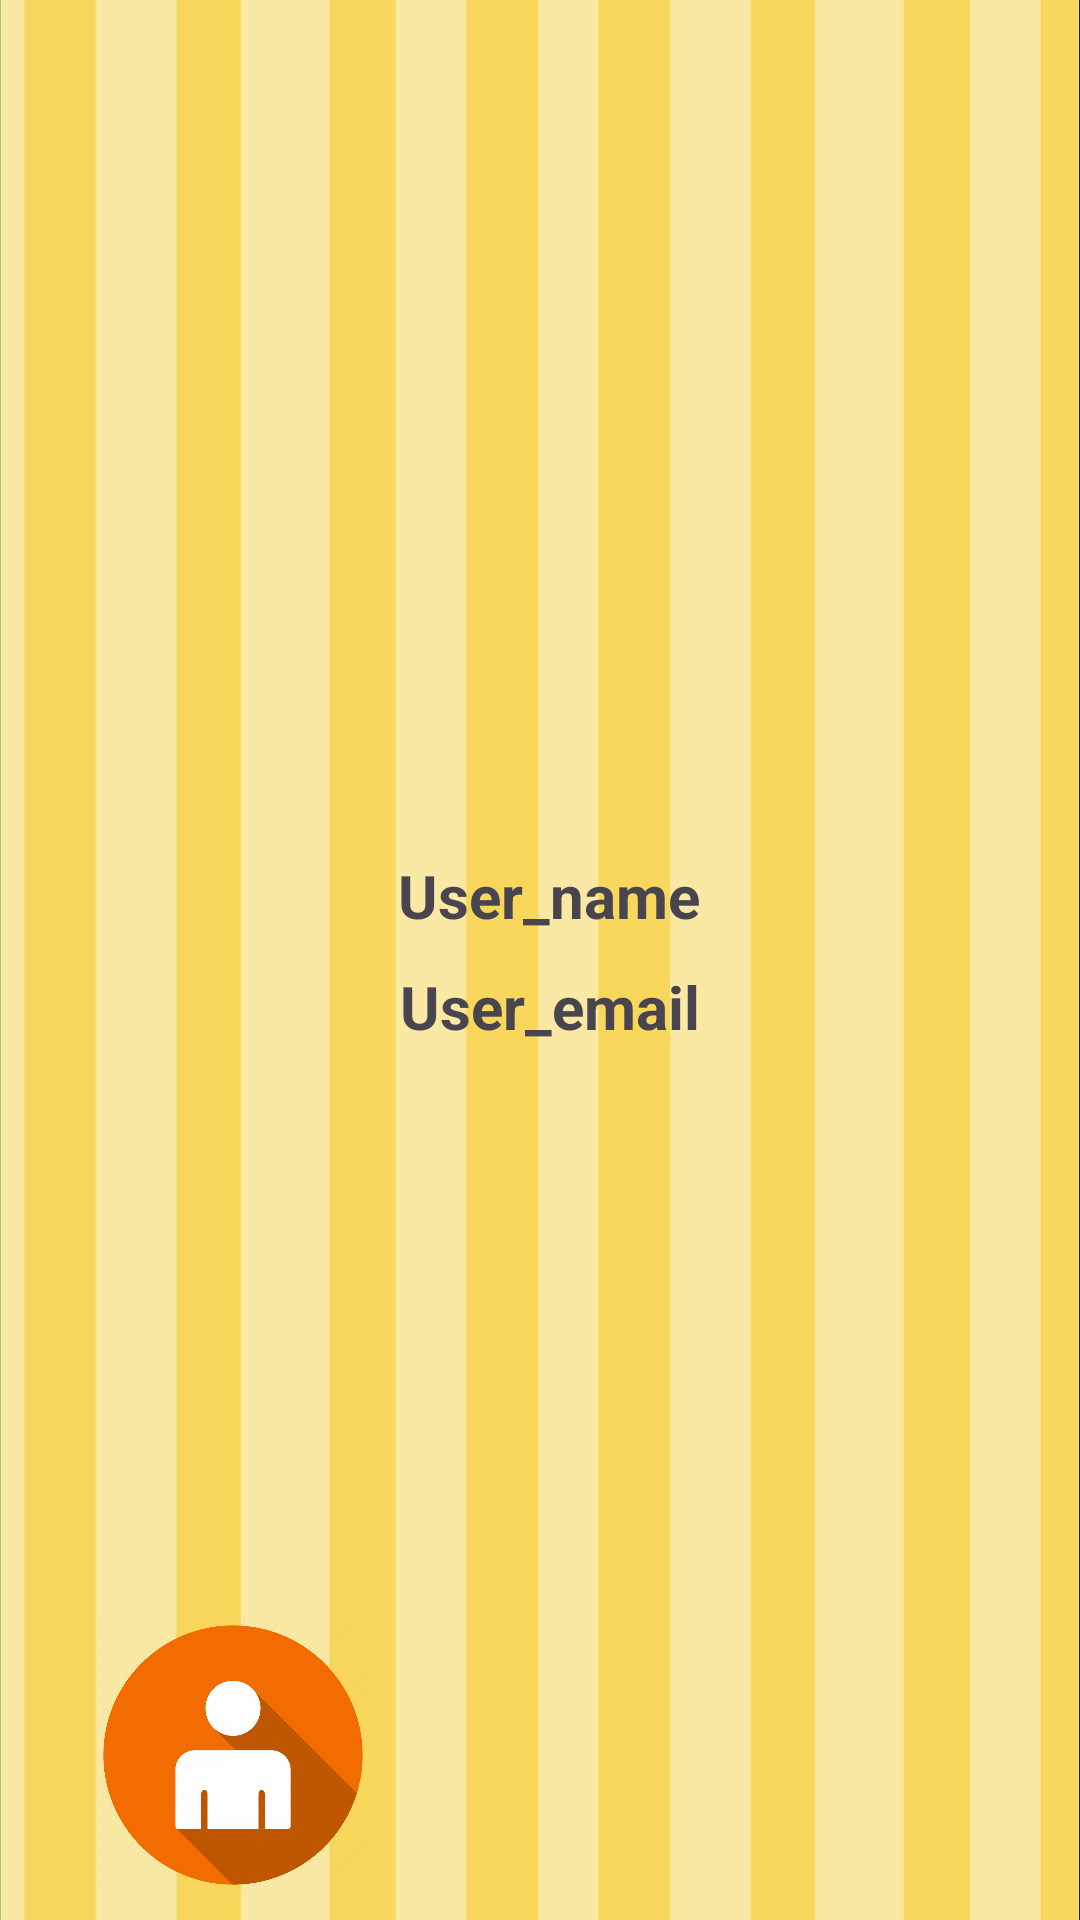

Icons on this 1080w x 1920h Android screen, each with the point to tap as (x=x, y=y):
profile: (x=230, y=1755)
